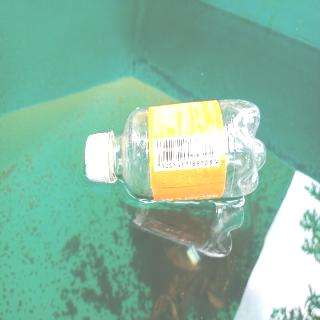bottle: (84, 98, 266, 202)
